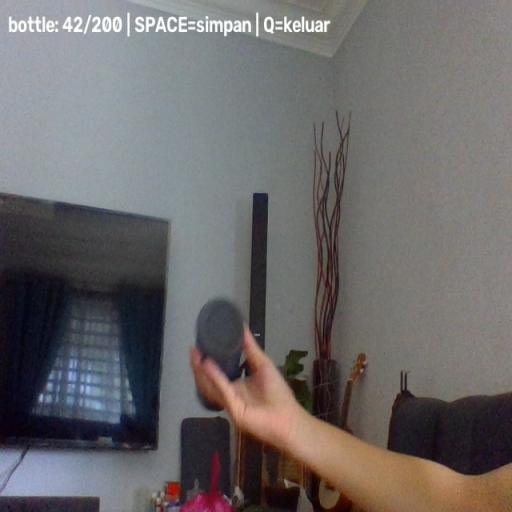Bottle: (194, 298, 246, 412)
